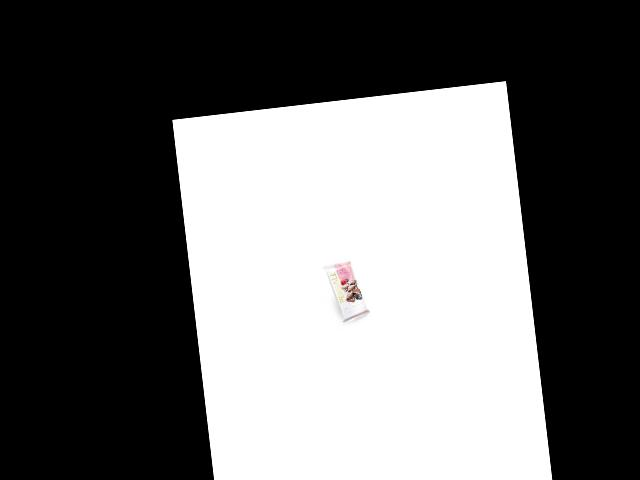chocolate: (323, 259, 372, 322)
